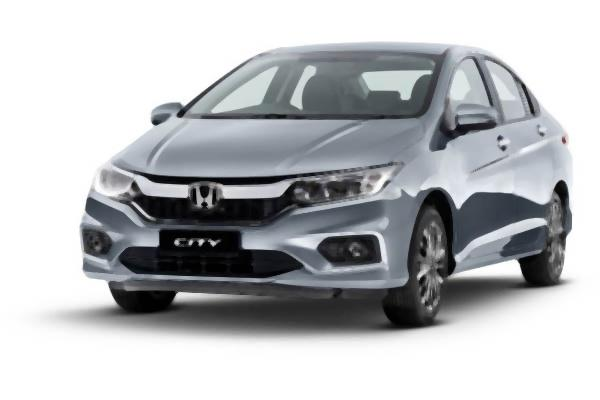Car hood: (111, 117, 424, 178)
Fender - -F-L-: (389, 124, 468, 276)
Front bumper: (76, 189, 412, 298)
Headlight - -L-: (289, 161, 404, 211)
Headlight - -R-: (86, 160, 137, 201)
Passenger-s door - -F-L-: (429, 41, 522, 277)
Passenger-s door - -R-L-: (479, 40, 556, 269)
Side bumper - -L-: (447, 218, 550, 290)
Side mirror - -L-: (443, 101, 498, 142)
Side mirror - -R-: (148, 103, 183, 127)
